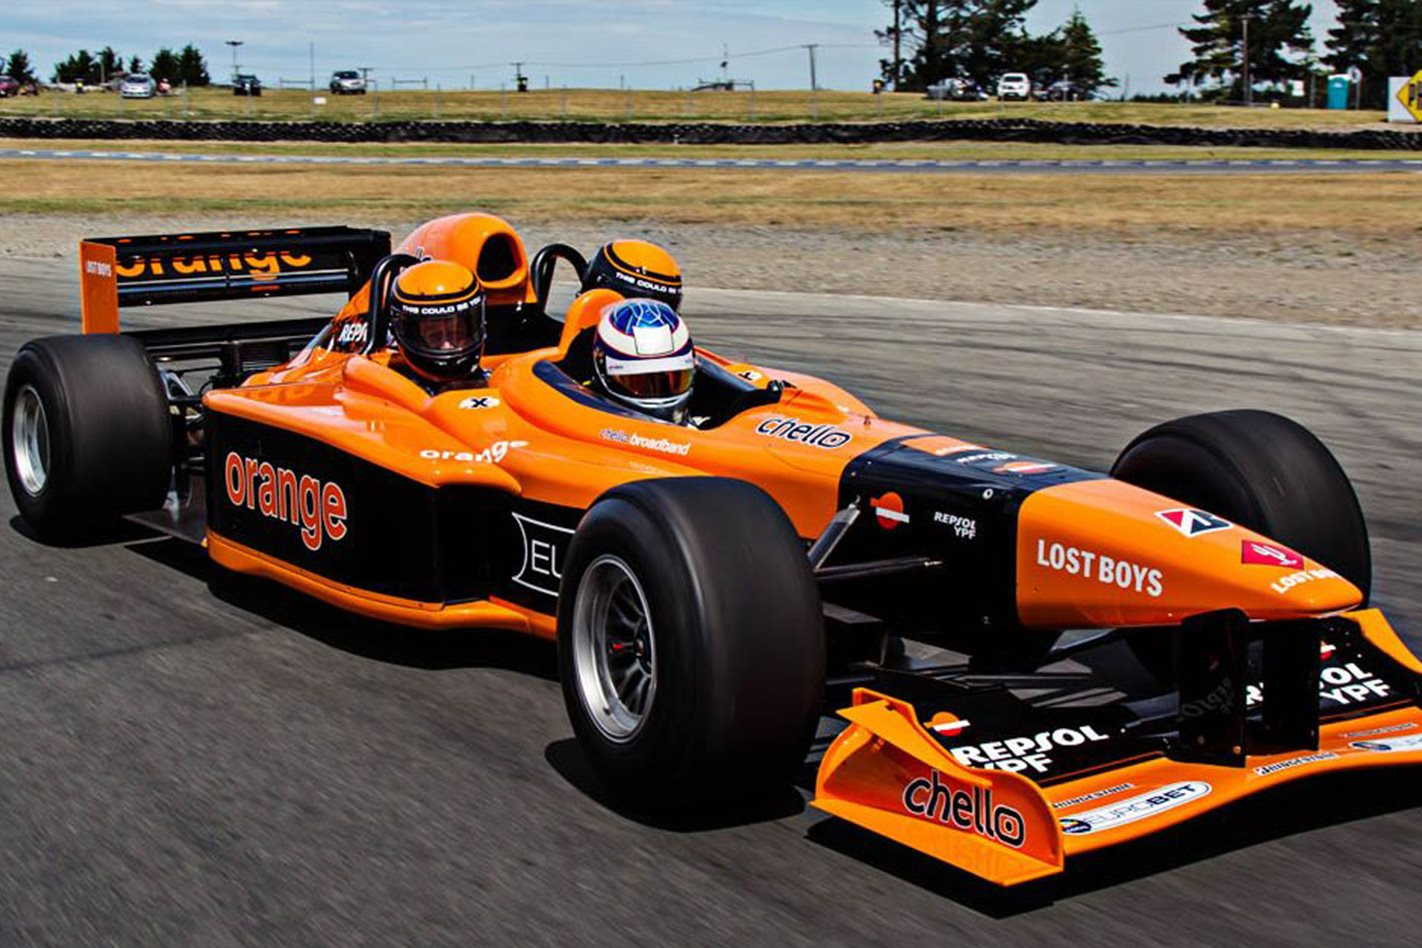f1_car: (5, 200, 1422, 923)
helmet: (381, 256, 500, 405), (585, 289, 701, 439), (578, 232, 691, 323)
